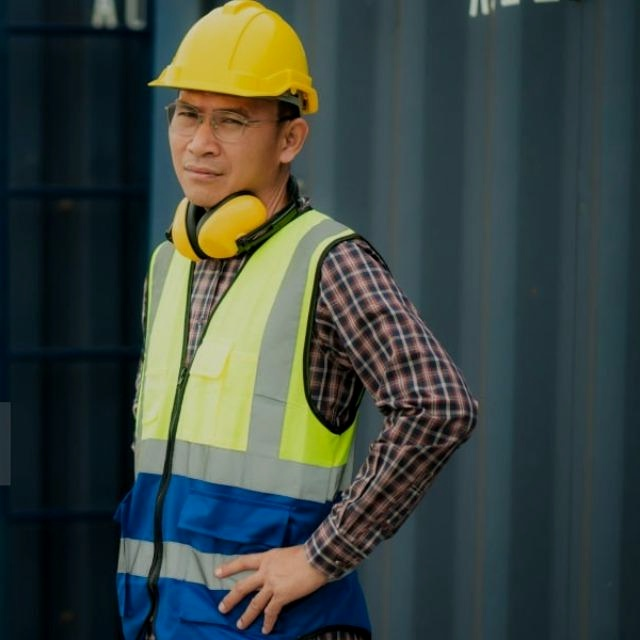Con_Casco: (144, 1, 322, 199)
Con_Chaleco: (129, 216, 391, 640)
